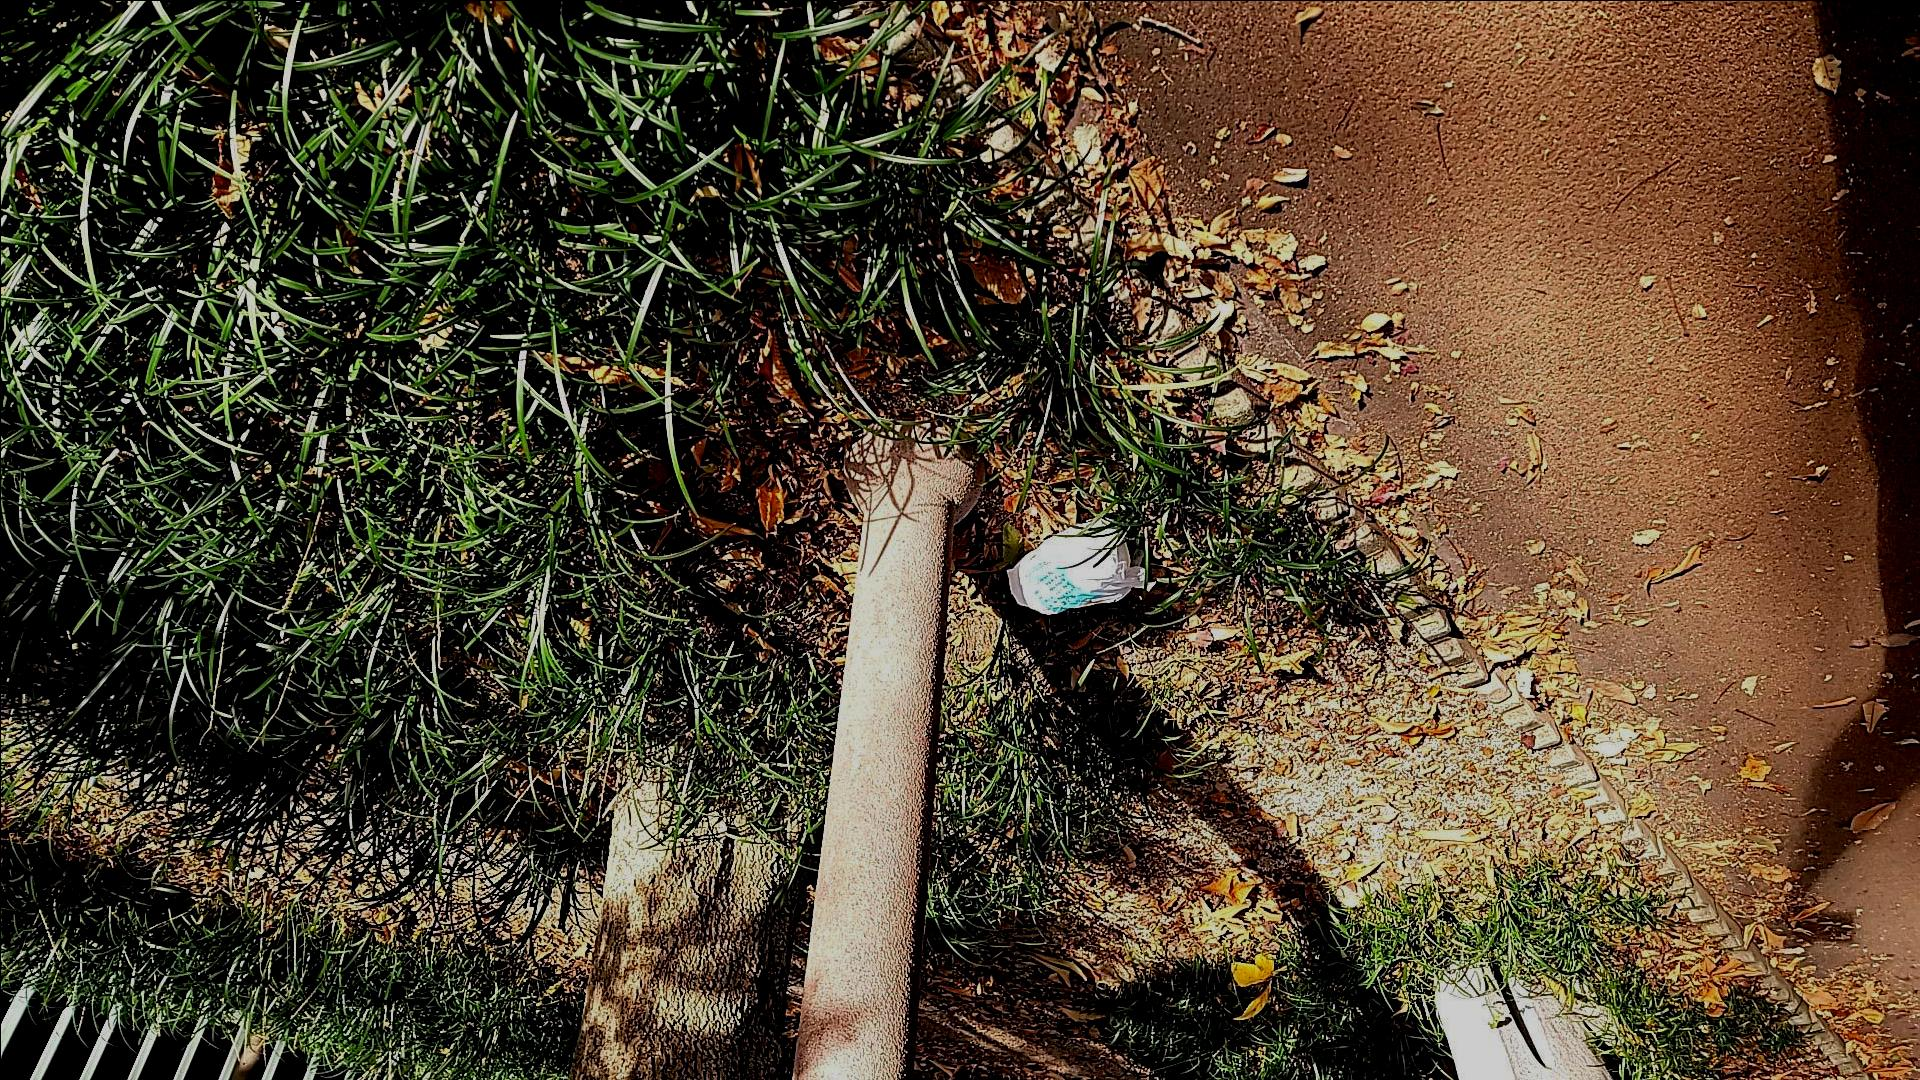white_bag: (1006, 518, 1160, 622)
